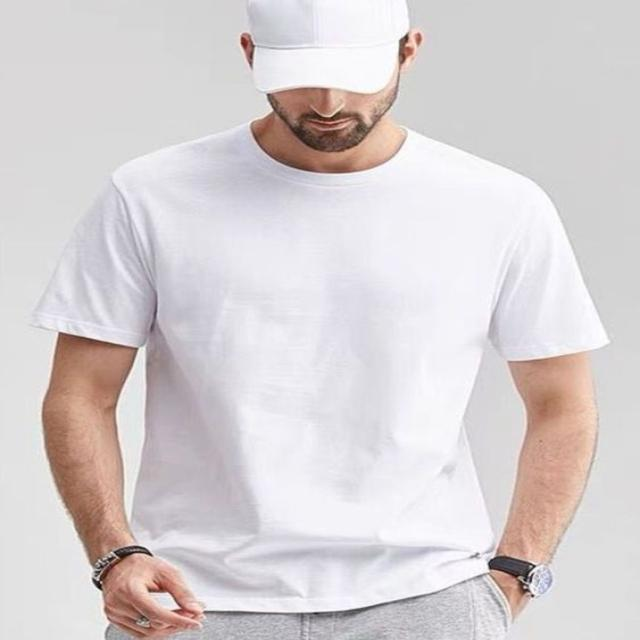shoulder: (83, 132, 572, 253)
